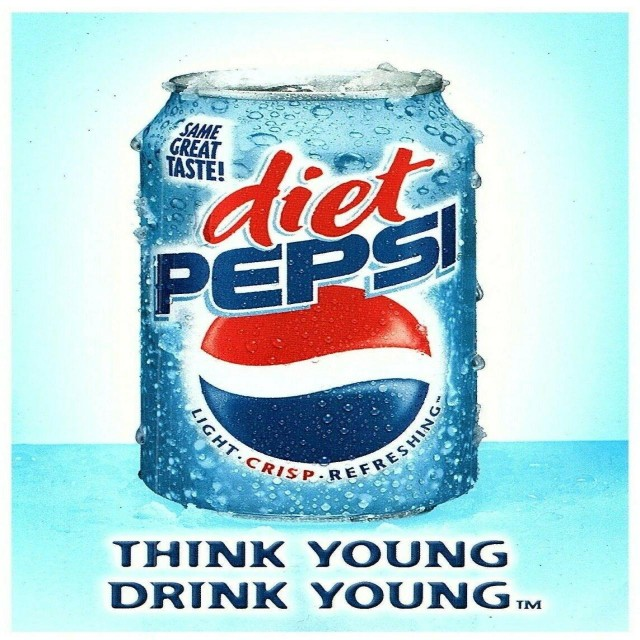pepsi: (196, 278, 451, 467)
